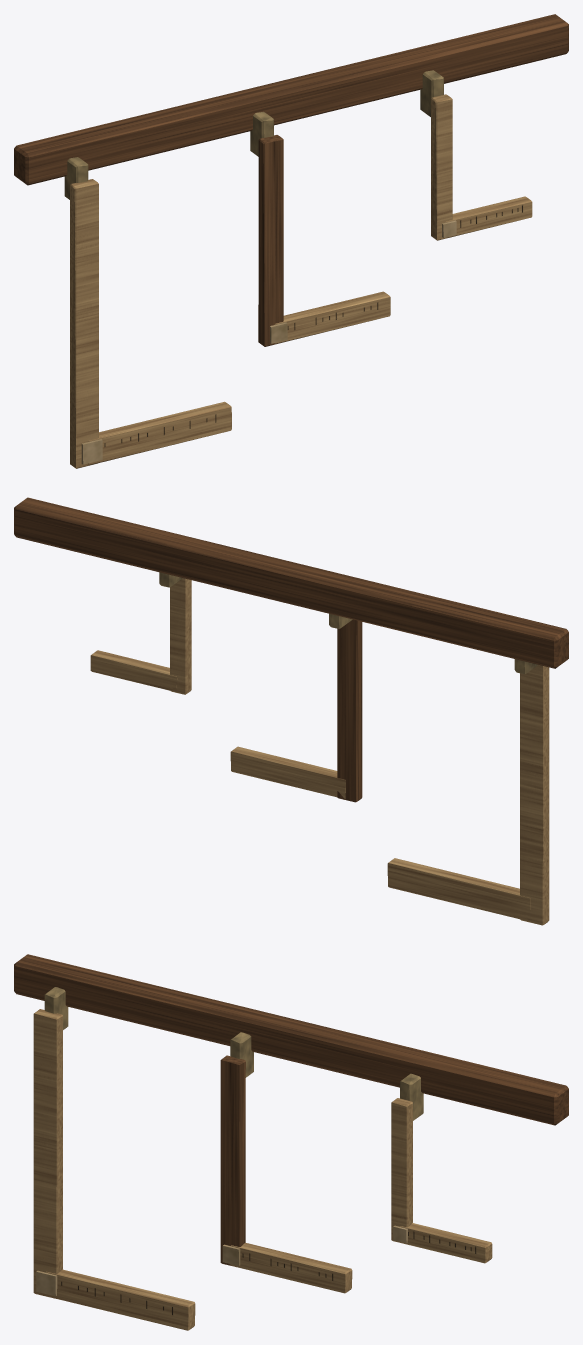
Rendered from WestWallSquares_LOD1.fbx.
3 renders of one model, top to bottom at view 1: azimuth 30°, elevation 25°; view 2: azimuth 150°, elevation 25°; view 3: azimuth 330°, elevation 25°, orthographic.
Visible parts, largest first — view 1: WestWallSquares.001; view 2: WestWallSquares.001; view 3: WestWallSquares.001.
Boxes of the visible parts, x1,y1,x2,y2 form: WestWallSquares.001: (14,14,568,468); WestWallSquares.001: (14,497,568,925); WestWallSquares.001: (14,954,568,1330).
Size of the model in its own units: 1.09 by 0.5995 by 0.1122.
1 material, 1 textured.
